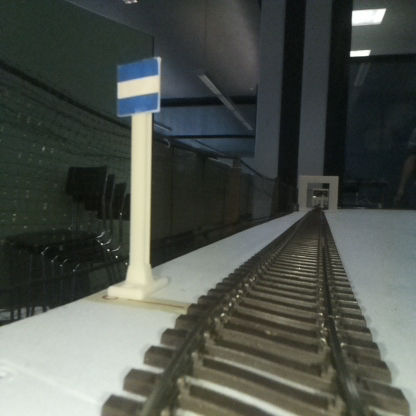start: (116, 57, 159, 295)
